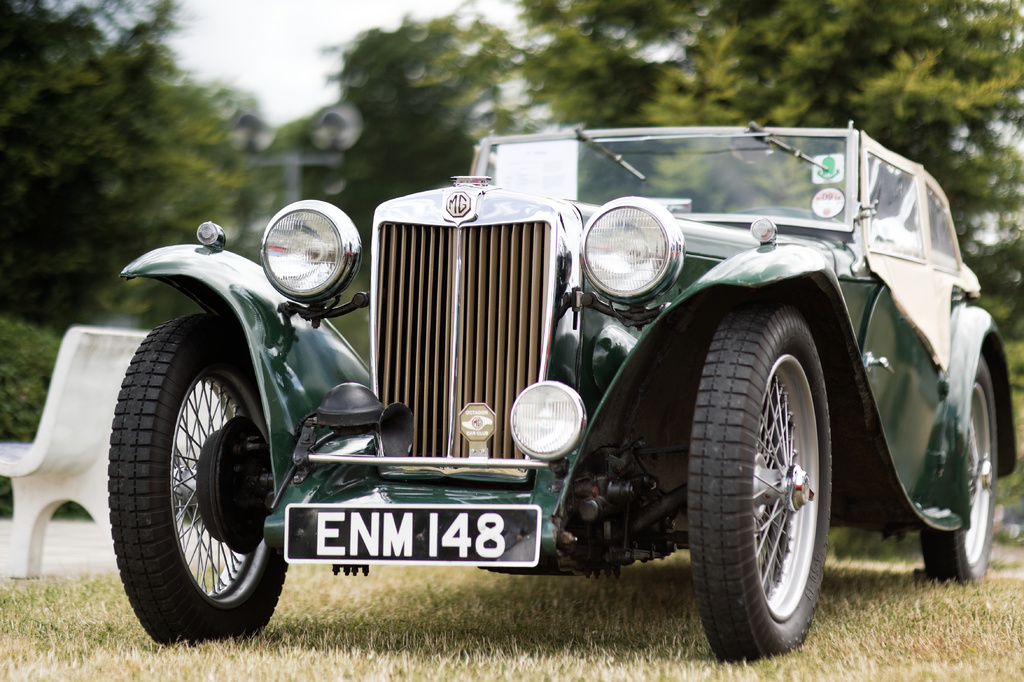Car: (106, 120, 1016, 661)
